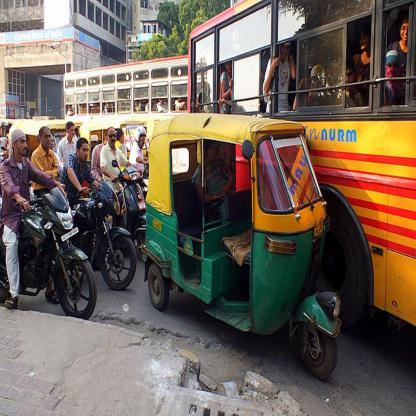face: (387, 62, 400, 83), (343, 71, 354, 90), (17, 138, 28, 156), (43, 132, 53, 149), (280, 45, 290, 61), (401, 25, 411, 41), (81, 145, 90, 161), (208, 147, 217, 163), (361, 33, 369, 50), (109, 132, 117, 147), (312, 77, 320, 90), (48, 136, 55, 150), (69, 127, 76, 140), (141, 136, 147, 149), (227, 63, 233, 73), (121, 133, 126, 142), (7, 136, 10, 143), (81, 103, 84, 109), (161, 99, 164, 105), (4, 126, 7, 131), (69, 105, 72, 110), (94, 103, 97, 108), (179, 97, 182, 102), (69, 99, 72, 104), (1, 129, 3, 135), (120, 103, 123, 107), (140, 104, 142, 108)
